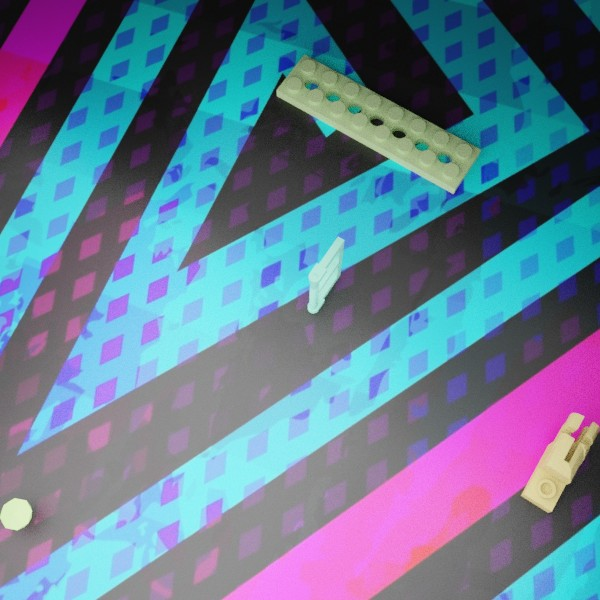lego: (276, 54, 481, 194), (520, 412, 600, 512), (307, 236, 344, 313), (0, 498, 31, 530)
